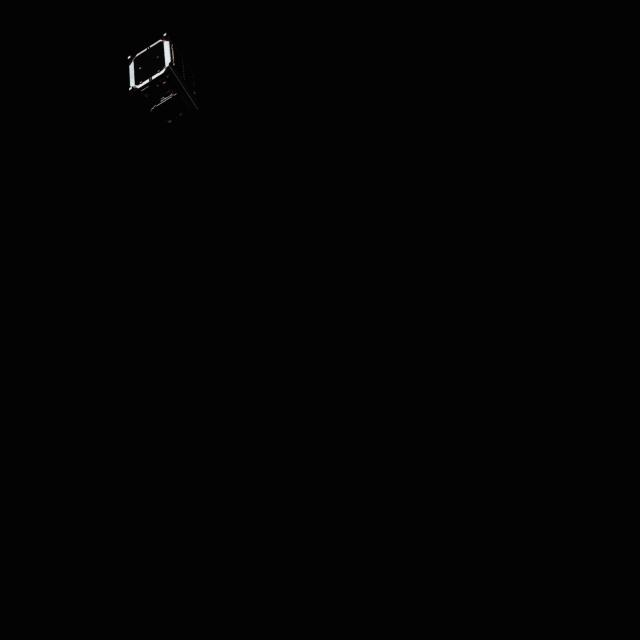satellite: (123, 27, 197, 125)
